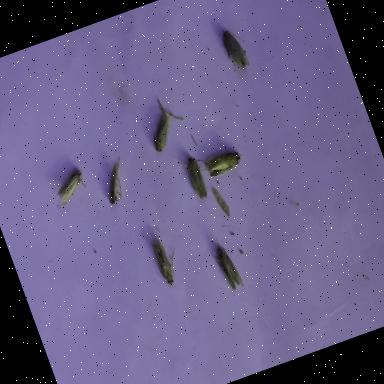pbw: (138, 96, 180, 154), (146, 236, 188, 292), (209, 234, 247, 294), (176, 151, 218, 203), (96, 157, 134, 205), (50, 166, 92, 208), (220, 26, 252, 74), (203, 147, 246, 179)
